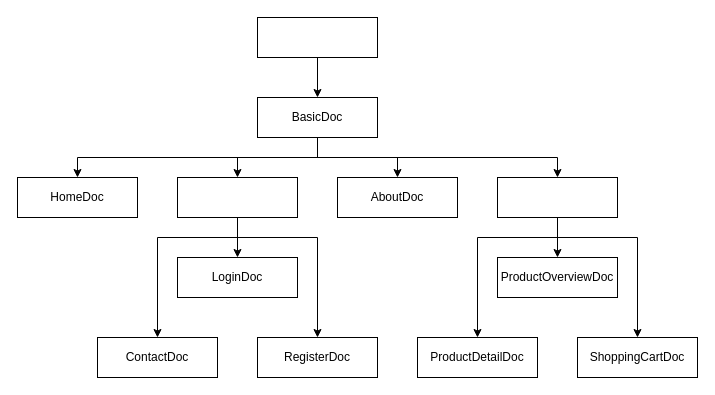
Some shapes in this 715 by 395 pixel diagram are drawn without their labels. The shapes that lost their labels are listed below. From the top down, each one's centre as x and y in pixels, then its label:
At (x=317, y=37): "HtmlDoc".
At (x=237, y=197): "FormsDoc".
At (x=557, y=197): "ProductDoc".
